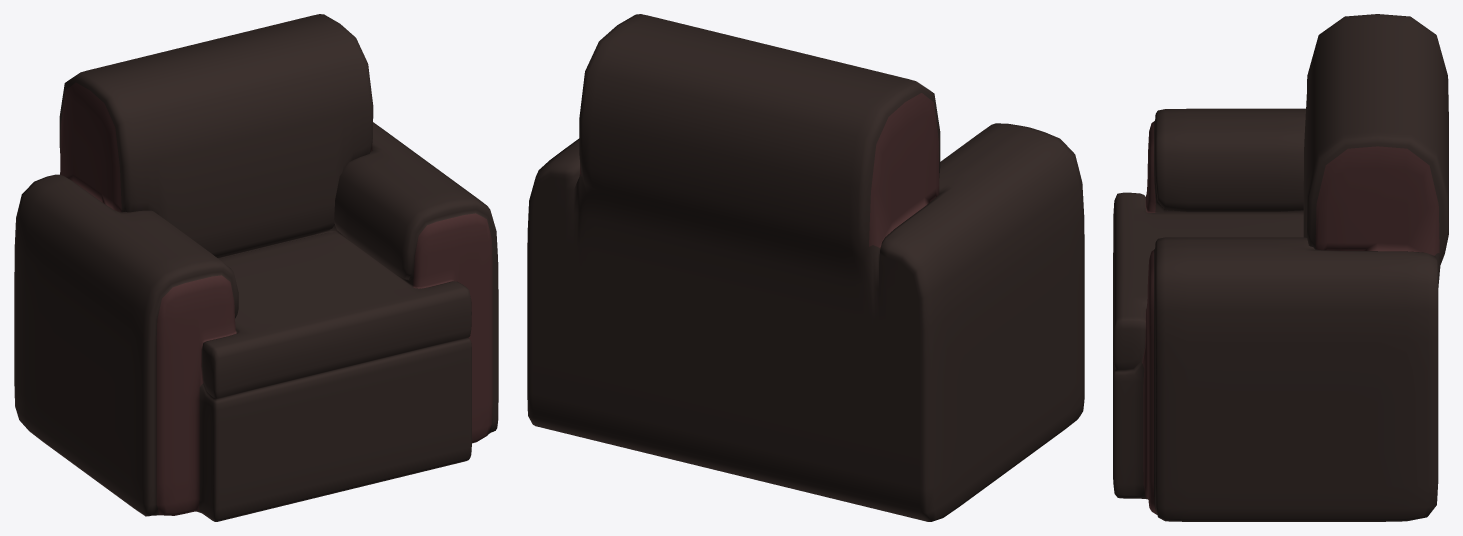
The model's file is Recliner.fbx.
3 renders of one model, left to right at view 1: azimuth 30°, elevation 25°; view 2: azimuth 150°, elevation 25°; view 3: azimuth 270°, elevation 25°, orthographic. The views are drawn at different scales.
Parts seen in each view (by area): view 1: Recliner; view 2: Recliner; view 3: Recliner.
Boxes of the visible parts, x1,y1,x2,y2 form: Recliner: (14, 14, 498, 521); Recliner: (527, 14, 1084, 521); Recliner: (1113, 14, 1448, 521).
Size of the model in its own units: 83.69 by 78.51 by 66.4.
